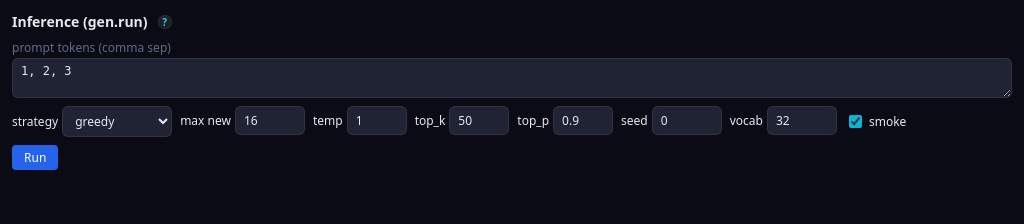
Test: V7 GenerationPanel (gen.run UI) › surfaces error on RPC reject
What coordinates should you click on to do the following:
click the button with test id "gen-run"
I would click on:
 (35, 158)
Its box is [12,145,58,170].
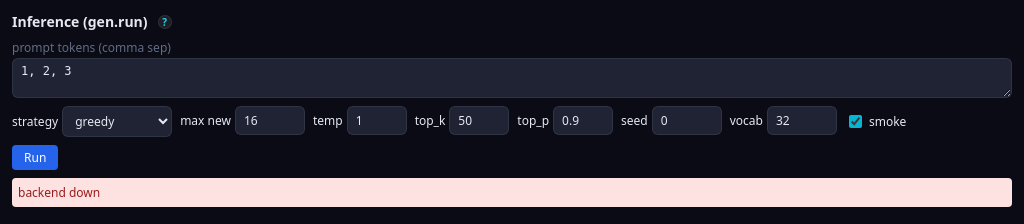
expect the text with test id "gen-error" reads "backend down": met, box [18,184,100,201]
